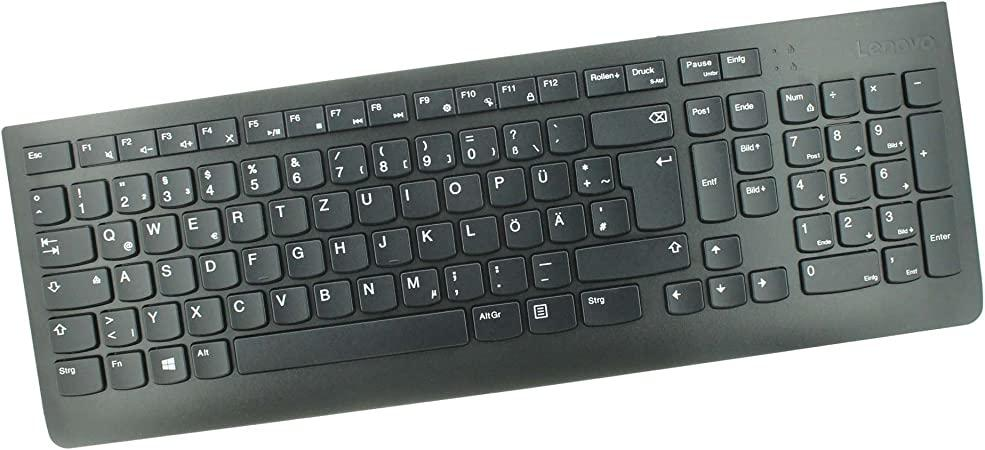0: (456, 123, 497, 164)
1: (66, 176, 107, 217)
2: (109, 171, 150, 210)
3: (151, 165, 193, 205)
4: (194, 159, 235, 199)
5: (237, 153, 278, 193)
6: (281, 147, 322, 188)
7: (325, 141, 366, 182)
8: (368, 135, 410, 176)
9: (412, 129, 453, 170)
a: (112, 259, 151, 299)
accent: (543, 111, 584, 151)
ae: (544, 201, 585, 240)
alt-left: (187, 337, 229, 377)
altgr-right: (468, 299, 521, 339)
b: (310, 277, 352, 316)
c: (224, 288, 264, 328)
caret: (26, 183, 64, 222)
comma: (441, 260, 482, 299)
d: (196, 247, 236, 287)
del: (588, 101, 673, 145)
e: (179, 205, 221, 246)
enter: (615, 144, 683, 228)
f: (239, 242, 279, 281)
g: (282, 237, 323, 276)
h: (326, 231, 366, 270)
hash: (587, 195, 628, 235)
i: (396, 176, 437, 216)
j: (370, 225, 410, 264)
k: (414, 219, 454, 258)
keyboard: (1, 2, 984, 441)
l: (457, 213, 497, 252)
less: (96, 305, 137, 345)
m: (397, 265, 438, 305)
minus: (528, 248, 569, 287)
n: (354, 271, 395, 310)
o: (440, 171, 481, 211)
oe: (501, 207, 541, 247)
p: (484, 164, 524, 204)
plus: (571, 152, 612, 193)
point: (485, 254, 525, 293)
q: (93, 217, 135, 257)
r: (222, 200, 263, 240)
s: (152, 254, 194, 293)
shift-left: (45, 311, 94, 351)
shift-lock: (39, 265, 110, 308)
shift-right: (573, 233, 689, 279)
space: (231, 307, 467, 373)
ss: (499, 118, 541, 158)
strg-left: (50, 353, 102, 394)
strg-right: (576, 283, 642, 325)
t: (266, 194, 306, 234)
tab: (33, 223, 91, 266)
u: (353, 182, 393, 223)
ue: (527, 158, 568, 199)
v: (267, 283, 307, 321)
w: (137, 211, 177, 251)
x: (181, 294, 221, 333)
y: (138, 300, 178, 339)
z: (310, 188, 350, 228)
